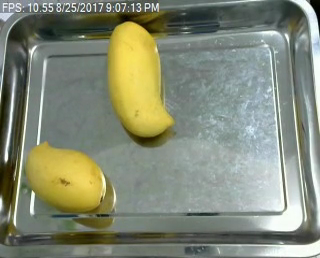Mango: (105, 17, 178, 141), (24, 140, 110, 216)
